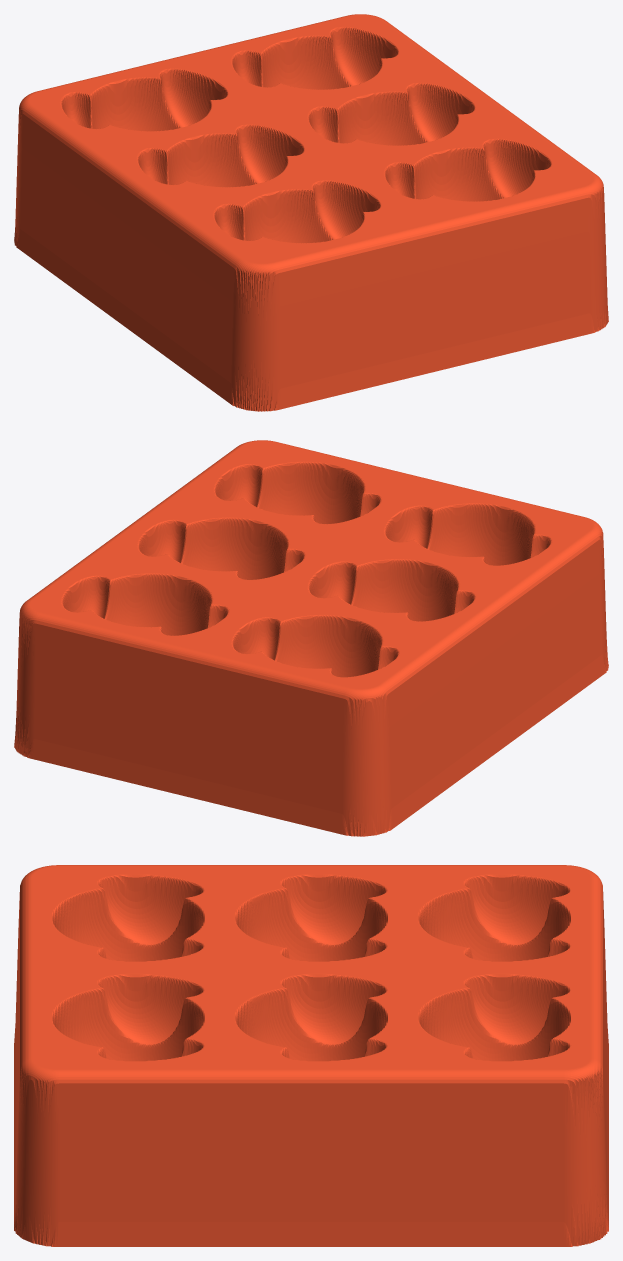
File: mold.glb
3 renders of one model, top to bottom at view 1: azimuth 30°, elevation 25°; view 2: azimuth 150°, elevation 25°; view 3: azimuth 270°, elevation 25°, orthographic. The views are drawn at different scales.
Parts seen in each view (by area): view 1: geometry_0; view 2: geometry_0; view 3: geometry_0.
Boxes of the visible parts, box(x1,y1,x2,y2) form: geometry_0: box(14, 14, 608, 411); geometry_0: box(14, 440, 608, 836); geometry_0: box(14, 865, 608, 1246).
Bounding box in the file's own units: 0.1045 × 0.0377 × 0.1201.
